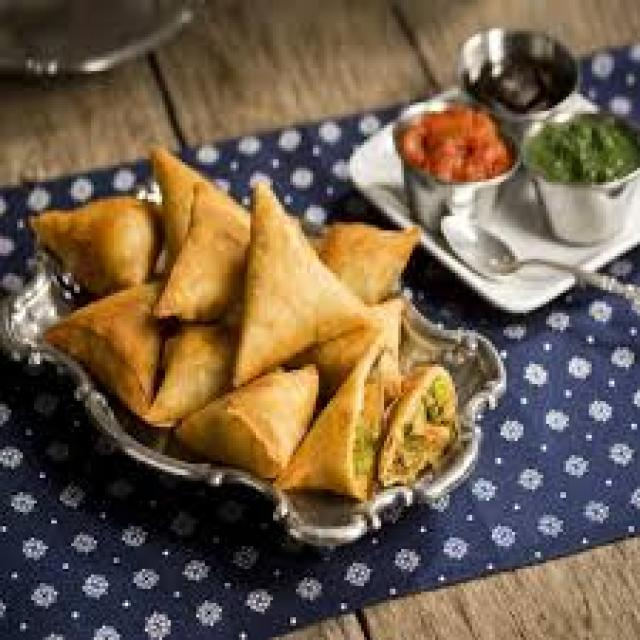SAMOSA: (233, 182, 370, 384), (154, 148, 247, 316), (179, 370, 316, 478), (48, 290, 159, 410), (34, 196, 154, 293), (151, 324, 230, 424), (313, 225, 415, 296), (154, 148, 210, 256)
